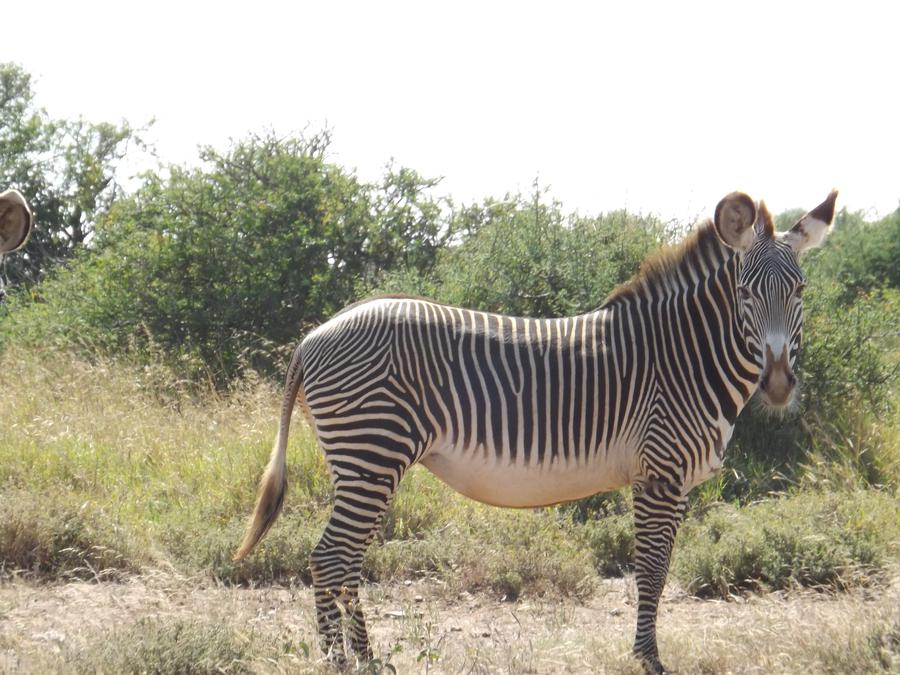zebra_grevys: (289, 277, 696, 497)
